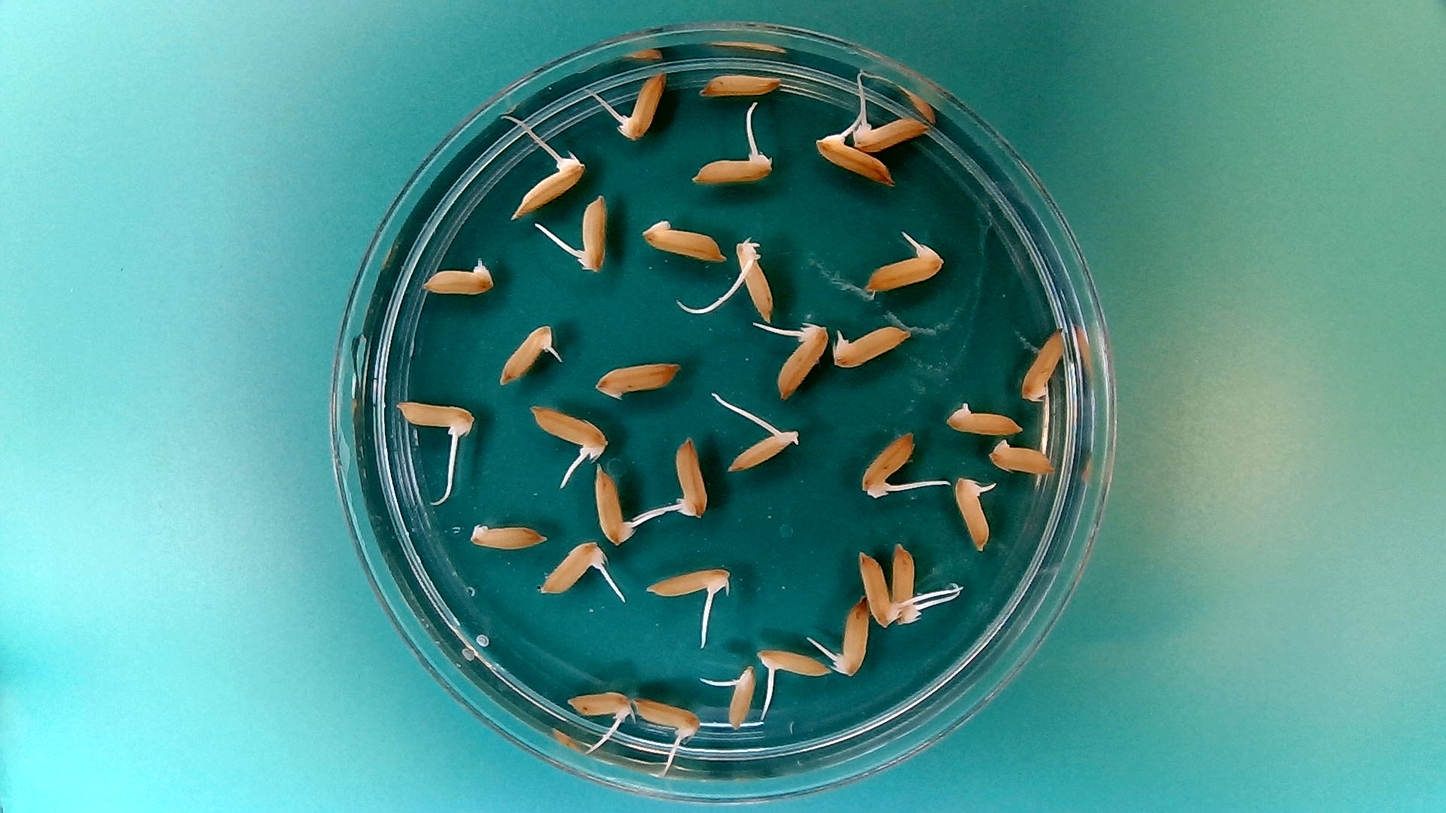no: (590, 356, 683, 402), (1017, 324, 1068, 403), (642, 221, 723, 264), (942, 397, 1025, 437), (988, 436, 1060, 482), (694, 66, 785, 102), (465, 516, 550, 552)
yes: (776, 316, 832, 402), (529, 400, 611, 456), (858, 425, 917, 501), (862, 242, 941, 294), (517, 151, 584, 212), (816, 133, 894, 185), (535, 541, 604, 598), (952, 472, 999, 554), (496, 322, 554, 386), (732, 239, 776, 322), (830, 324, 909, 370), (643, 565, 733, 605), (724, 424, 796, 473), (591, 469, 636, 546), (420, 255, 496, 299), (857, 547, 898, 628), (630, 694, 702, 739), (889, 539, 926, 626), (393, 400, 471, 440), (834, 596, 871, 678), (619, 72, 663, 139), (574, 193, 611, 269), (566, 686, 636, 726), (848, 118, 926, 152), (676, 438, 709, 518), (721, 661, 758, 732), (758, 645, 829, 682), (695, 148, 767, 184)
